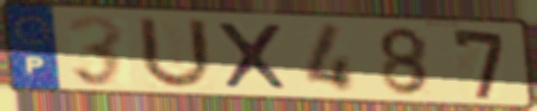3: (64, 12, 132, 89)
4: (301, 21, 359, 97)
7: (450, 25, 507, 101)
8: (376, 24, 434, 98)
U: (134, 13, 217, 92)
X: (212, 19, 294, 93)
